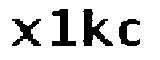1: (46, 7, 78, 51)
c: (117, 18, 143, 50)
k: (81, 7, 115, 47)
x: (9, 15, 43, 50)
